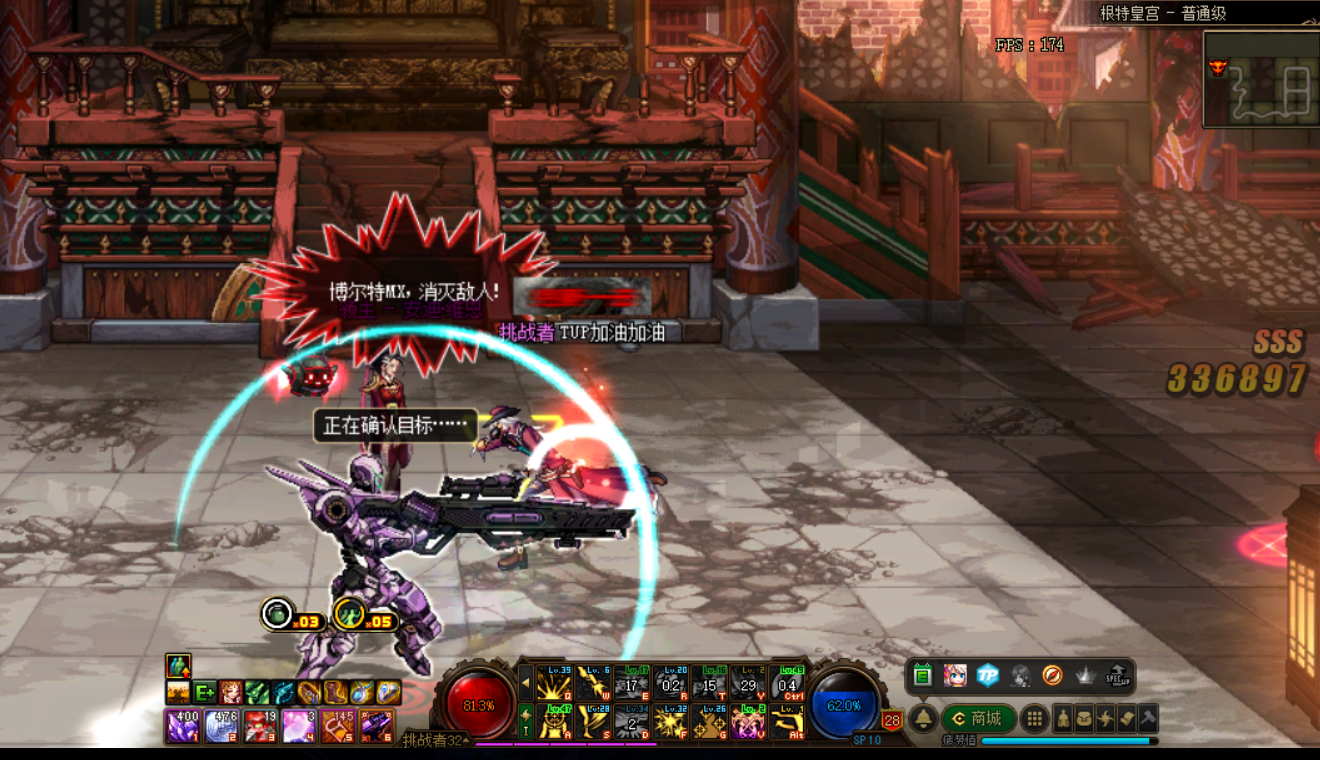boss: (271, 434, 637, 688), (351, 338, 431, 535)
warrior: (476, 391, 668, 568)
